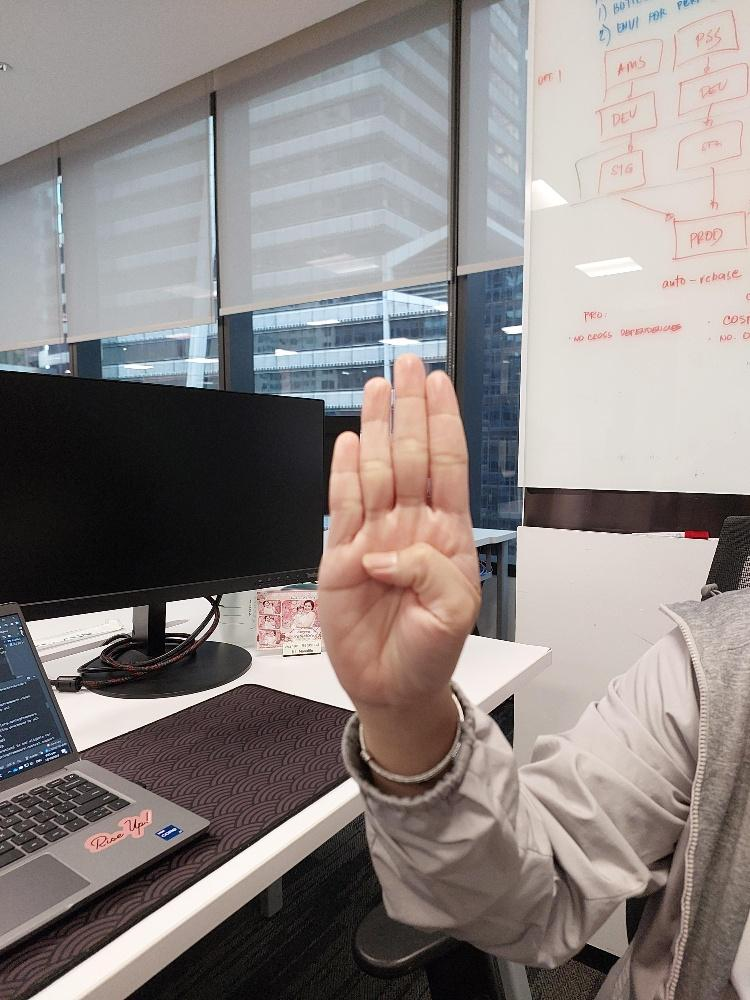b: (317, 350, 482, 705)
